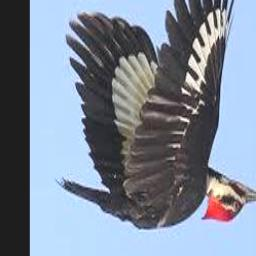Woodpecker: (53, 0, 256, 232)
